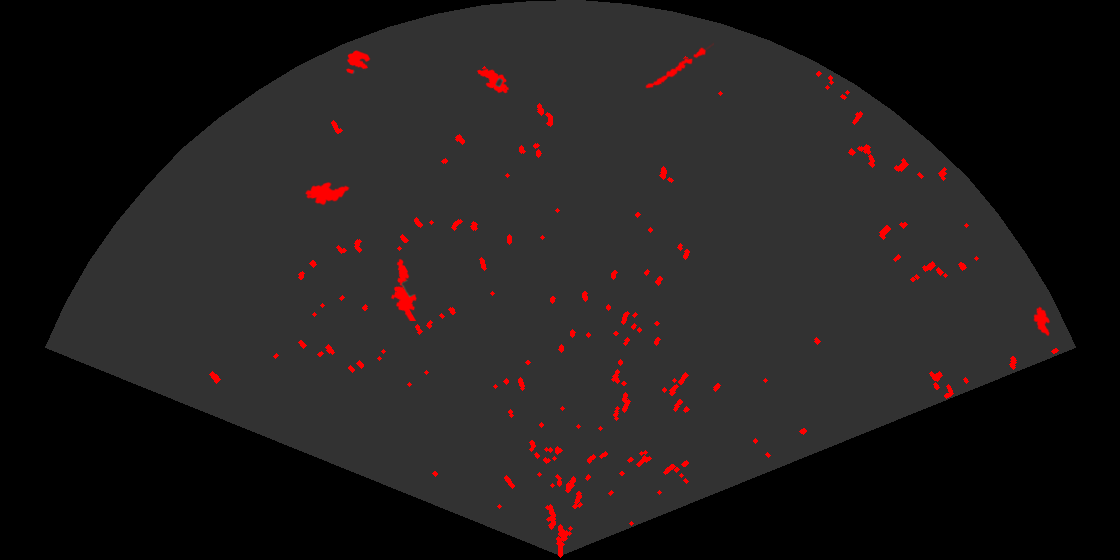AUV: (303, 180, 351, 207), (475, 67, 511, 95), (1032, 305, 1052, 338)
ball: (344, 49, 372, 75)
chain: (643, 41, 714, 90)
frogman: (389, 257, 418, 321)
